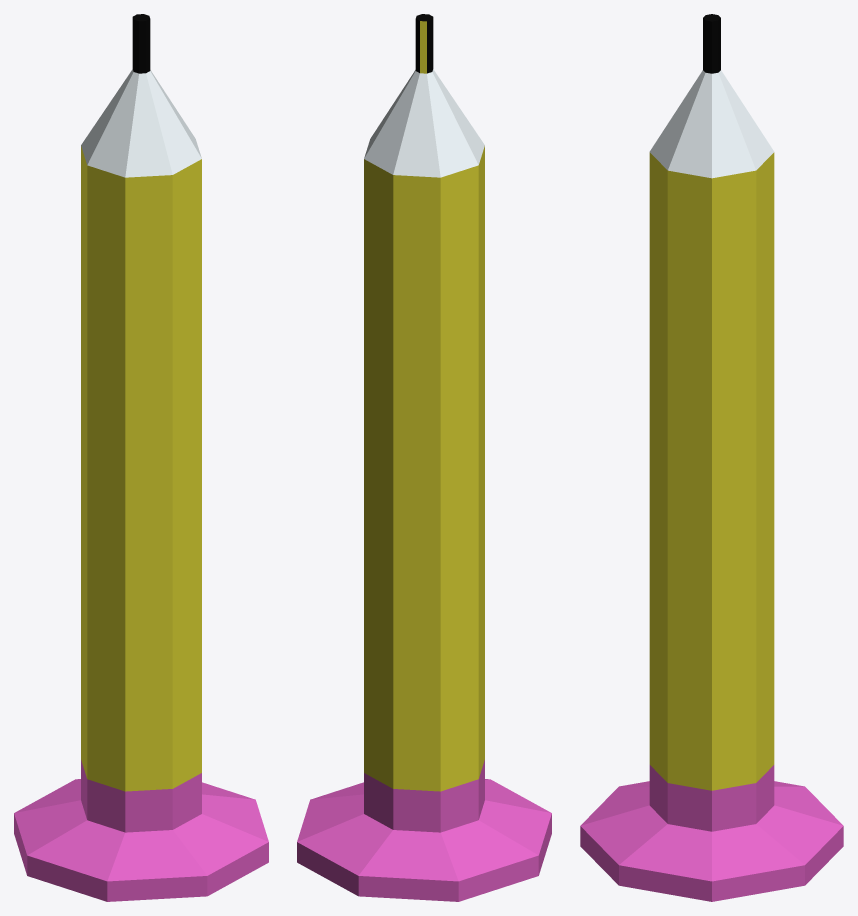
File: Pencil.glb
The picture shows the model from 3 angles, left to right: view 1: azimuth 30°, elevation 25°; view 2: azimuth 150°, elevation 25°; view 3: azimuth 270°, elevation 25°; orthographic projection.
Parts seen in each view (by area): view 1: Cylinder.001; view 2: Cylinder.001; view 3: Cylinder.001.
Boxes of the visible parts, bbox=[...] form: Cylinder.001: bbox=[14, 14, 268, 901]; Cylinder.001: bbox=[297, 14, 551, 901]; Cylinder.001: bbox=[580, 14, 843, 901].
Size of the model in its own units: 4.21 by 14.63 by 4.21.
